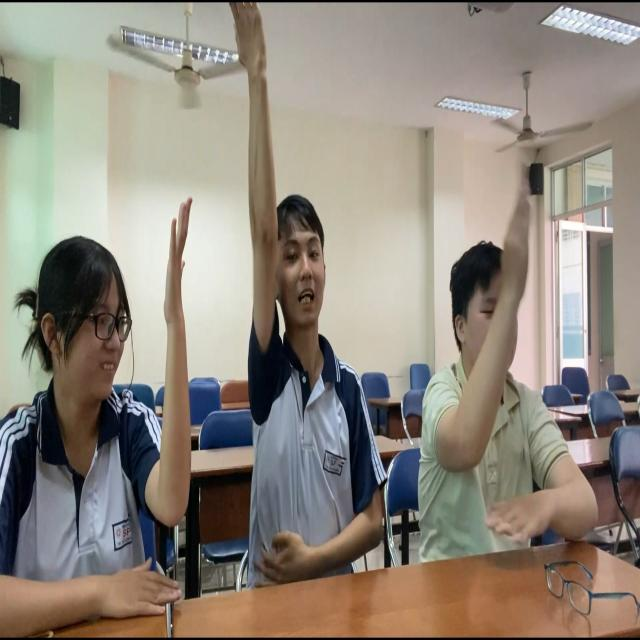raise_hand: (222, 1, 392, 594), (1, 188, 207, 640), (429, 190, 581, 564)
